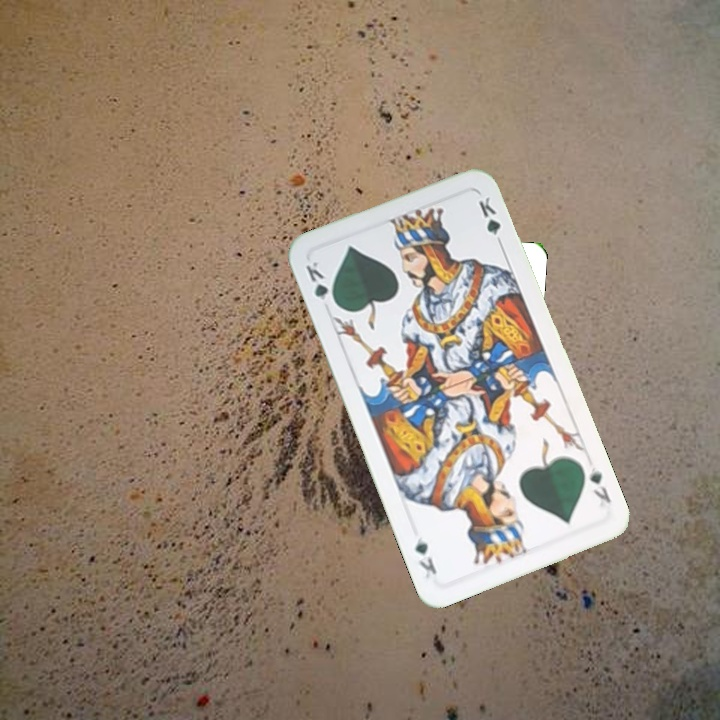GK: (301, 257, 340, 310), (585, 462, 614, 506)
